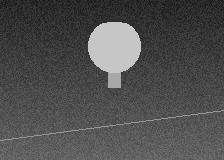no_helmet: (88, 18, 140, 77)
